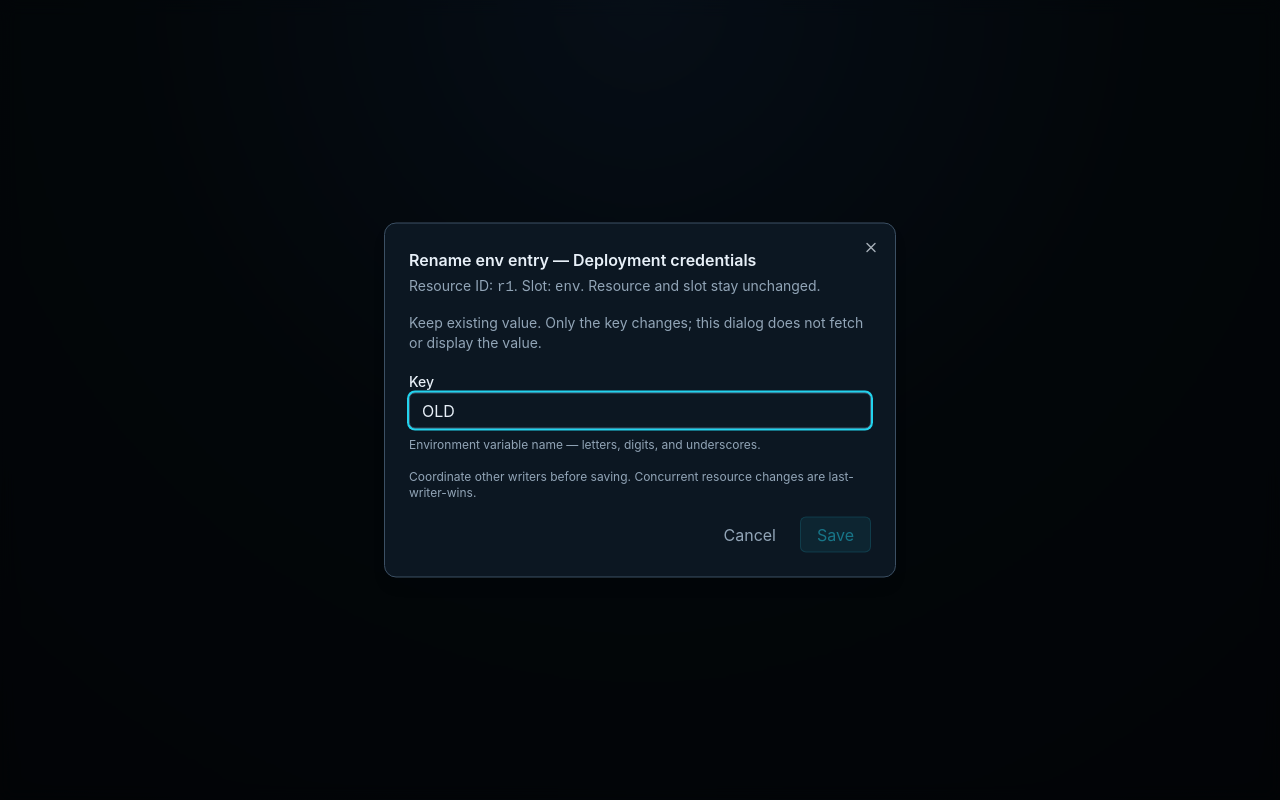
Test case: WriteSecretDialog › disables unchanged Rename Save and rejects a direct unchanged submission
Expected: the button "Save" is disabled, [800,516,871,552]
In the field labelled "Key": (640, 410) [409,392,871,428], type "_NEW"
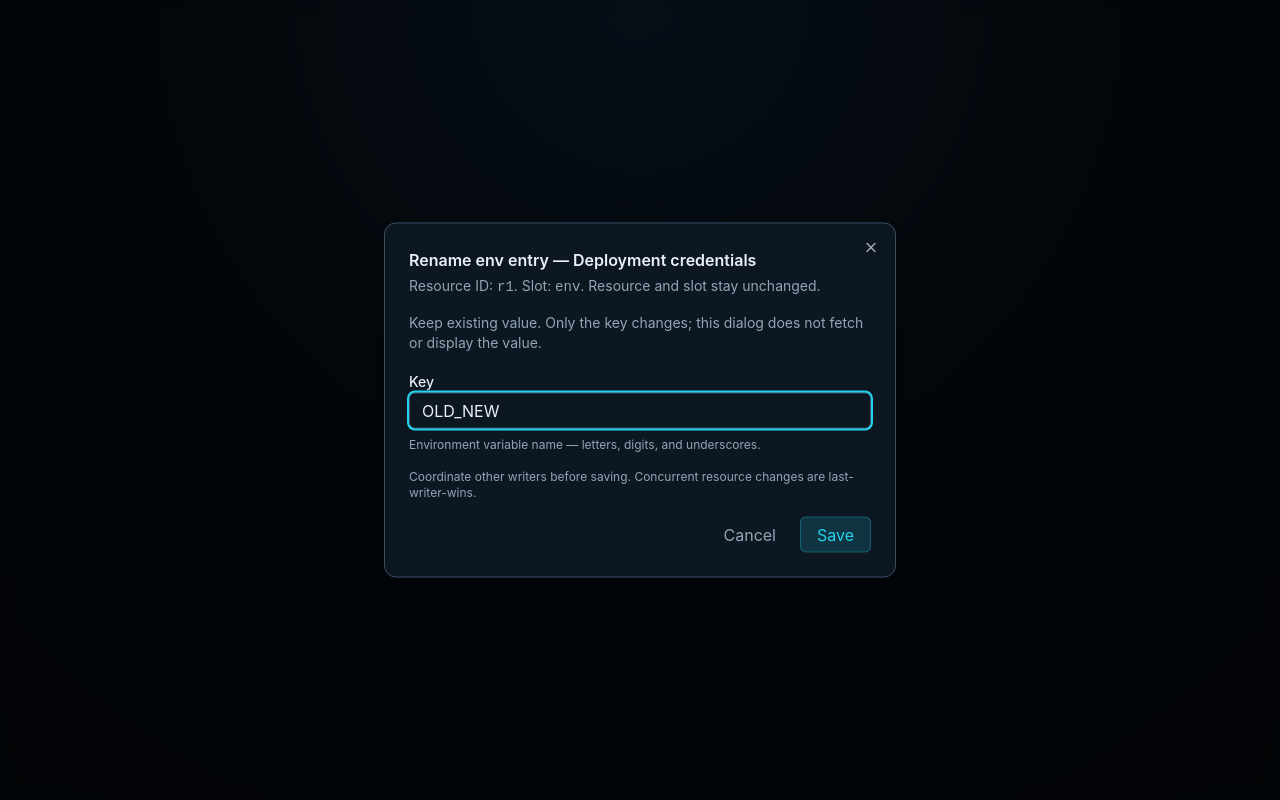
Now the button "Save" is enabled, box [800,516,871,552]
Replace the text in the field labelled "Key" with "OLD": (640, 410) [409,392,871,428]
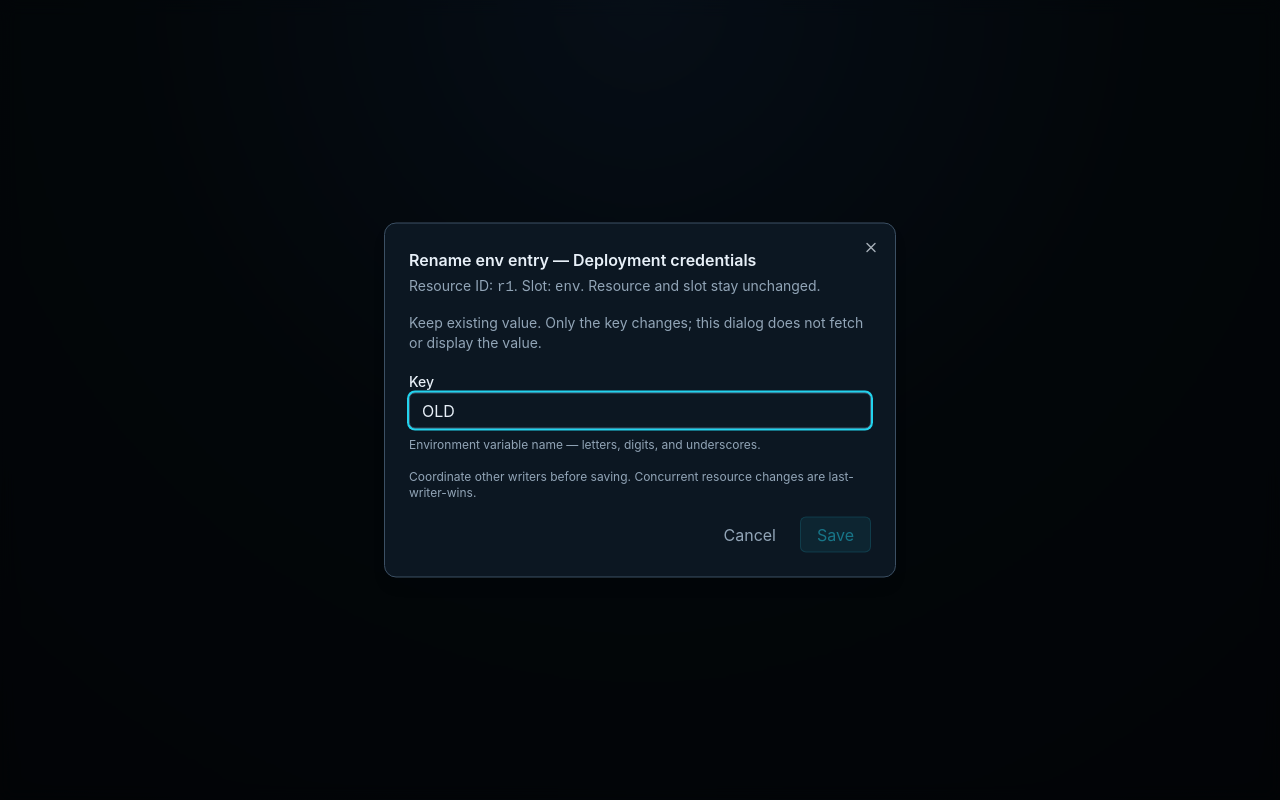
Now the button "Save" is disabled, box [800,516,871,552]
Submit the form, box [409,312,871,552]
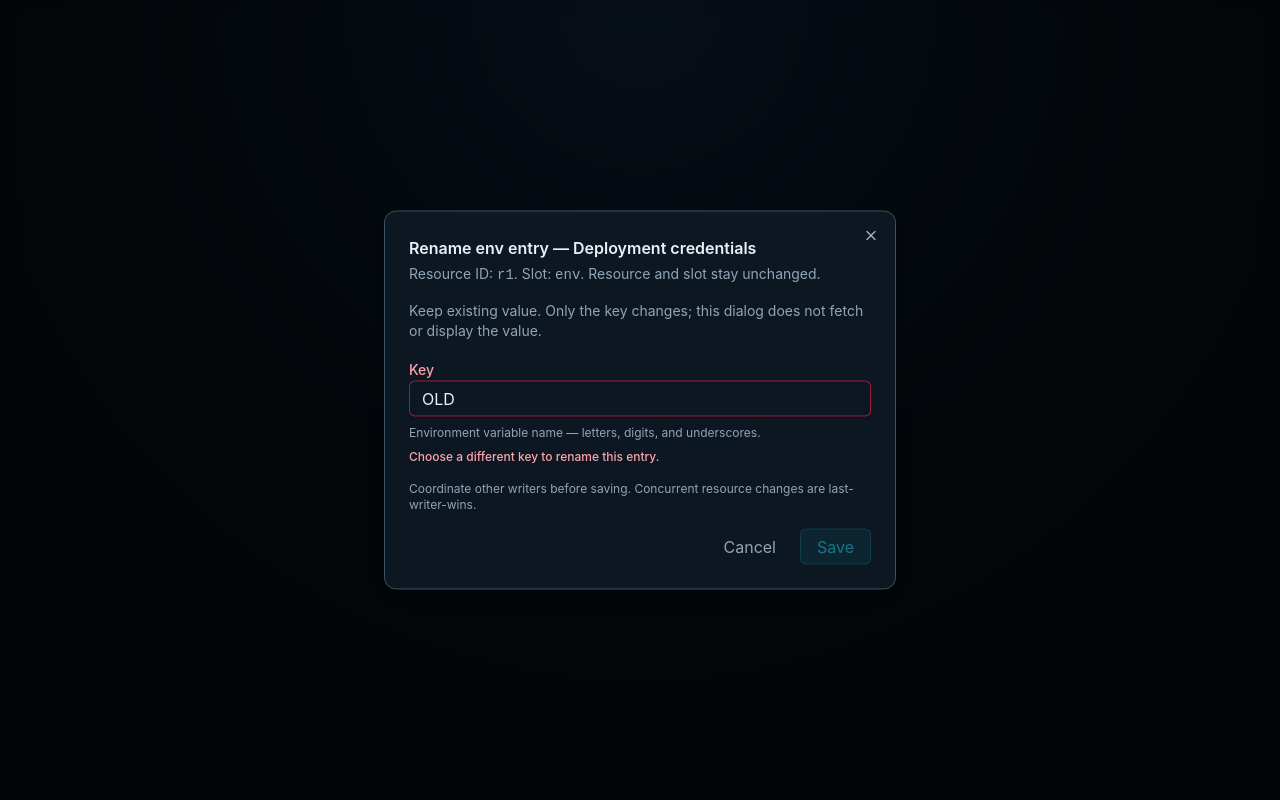
Now the text "Choose a different key to rename this entry." is shown, box [409,448,659,464]
